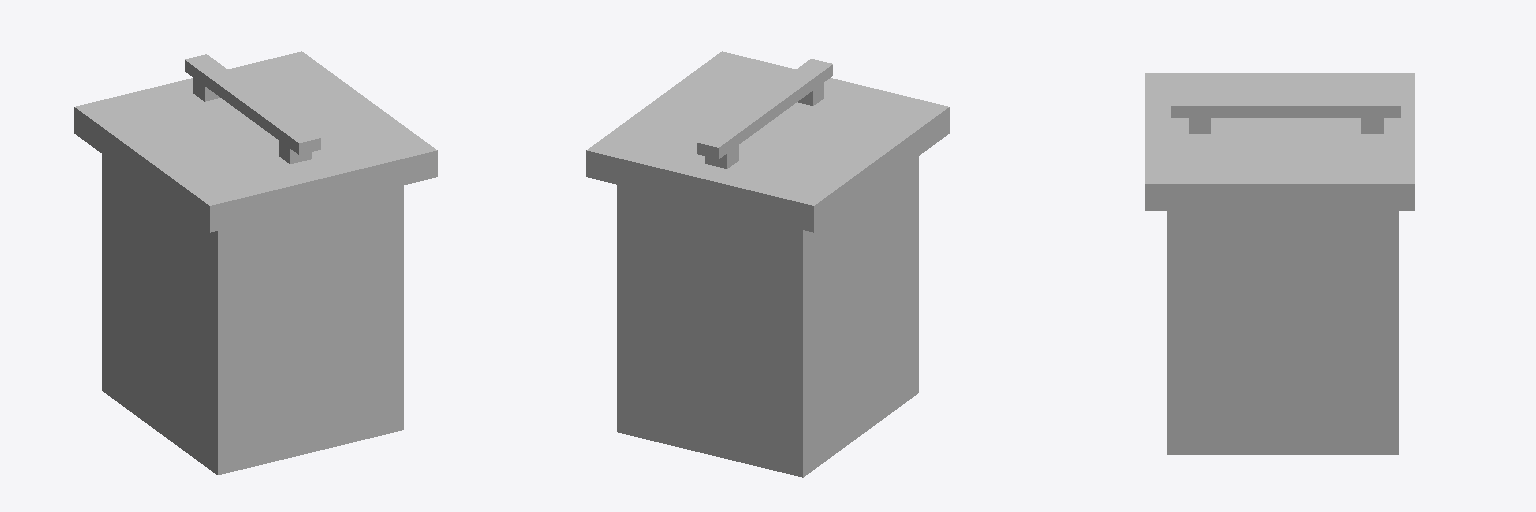
The model's file is FM_trashcan.obj.
3 views of the same model, side by side, from view 1: azimuth 30°, elevation 25°; view 2: azimuth 150°, elevation 25°; view 3: azimuth 270°, elevation 25° (orthographic).
Parts seen in each view (by area): view 1: Cube.002; view 2: Cube.002; view 3: Cube.002.
Boxes of the visible parts, x1=… form: Cube.002: x1=74, y1=51, x2=437, y2=474; Cube.002: x1=586, y1=51, x2=949, y2=477; Cube.002: x1=1145, y1=73, x2=1414, y2=454.
Size of the model in its own units: 0.5563 by 0.7236 by 0.5731.